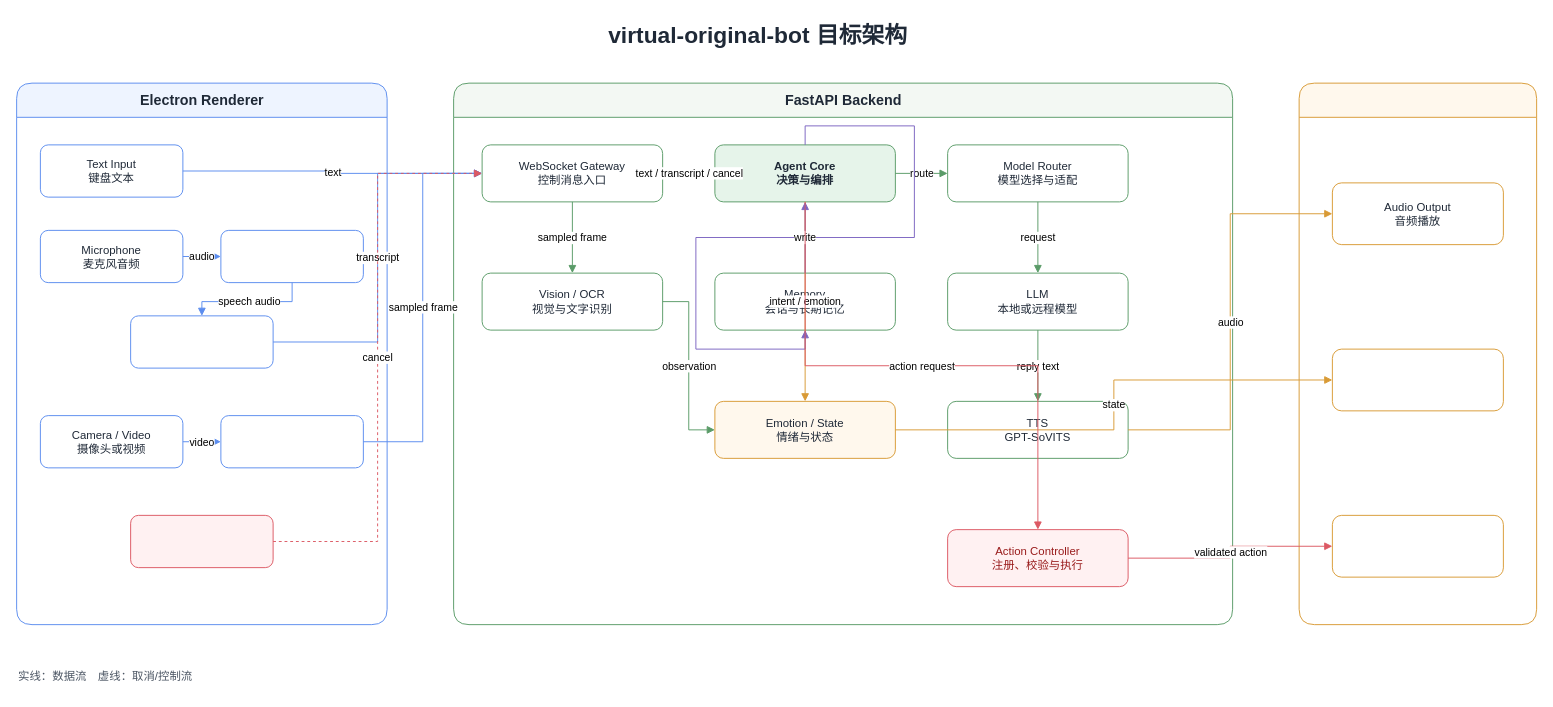
This 1553x707 diagram has some shape labels left out. The box of each missing label's shape, as (x1, y1, x2, y2) in pixels:
ASR Whisper: (130, 315, 273, 368)
External I/O 外部设备或系统动作: (1331, 514, 1503, 577)
Interrupt 打断: (130, 514, 273, 568)
Live2D Action 角色表情与动作: (1331, 348, 1503, 411)
Outputs: (1298, 82, 1537, 625)
VAD 语音活动检测: (220, 229, 363, 283)
Video Sampler 抽帧: (220, 415, 363, 468)
